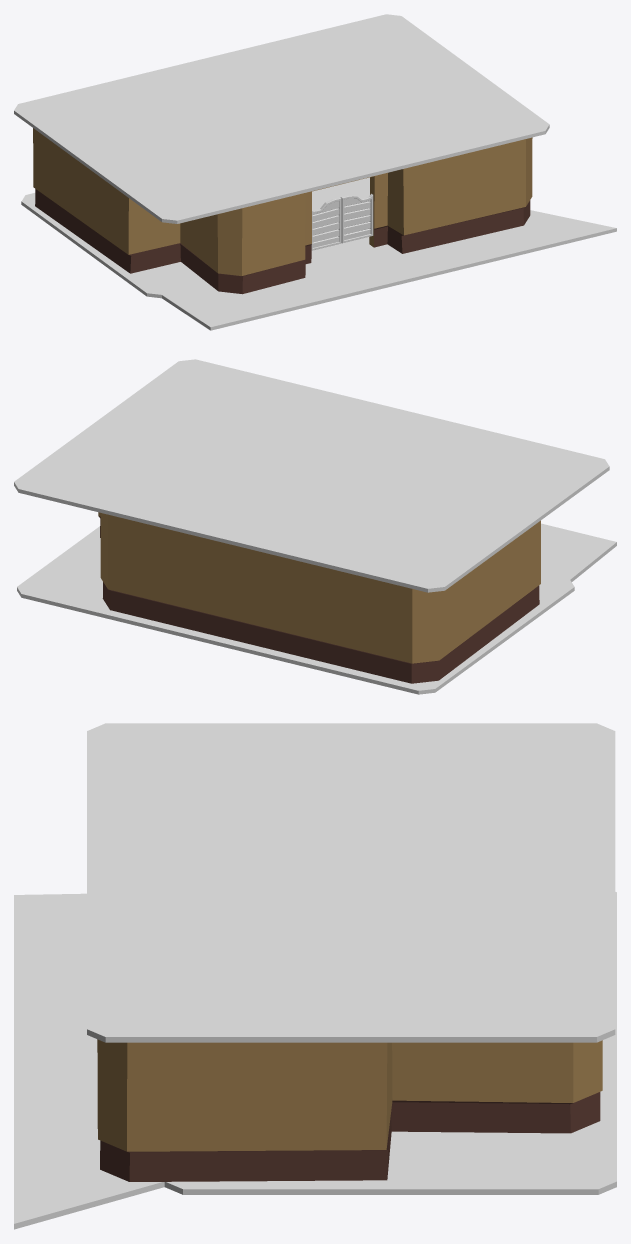
Rendered from room.fbx.
3 renders of one model, top to bottom at view 1: azimuth 30°, elevation 25°; view 2: azimuth 150°, elevation 25°; view 3: azimuth 270°, elevation 25°, orthographic. The views are drawn at different scales.
Parts seen in each view (by area): view 1: floor, room, roof, right door, left door; view 2: floor, room, roof; view 3: floor, room, roof.
Part boxes in pixels (x1,y1,x2,y2): floor: (14,14,549,223); room: (33,128,532,294); roof: (21,177,616,330); right door: (340,193,373,243); left door: (311,197,341,250); floor: (14,359,609,592); room: (98,512,540,683); roof: (17,523,616,694); floor: (87,723,615,1042); room: (97,1039,602,1181); roof: (14,892,616,1229).
Size of the model in its own units: 4976 by 1076 by 3666.
